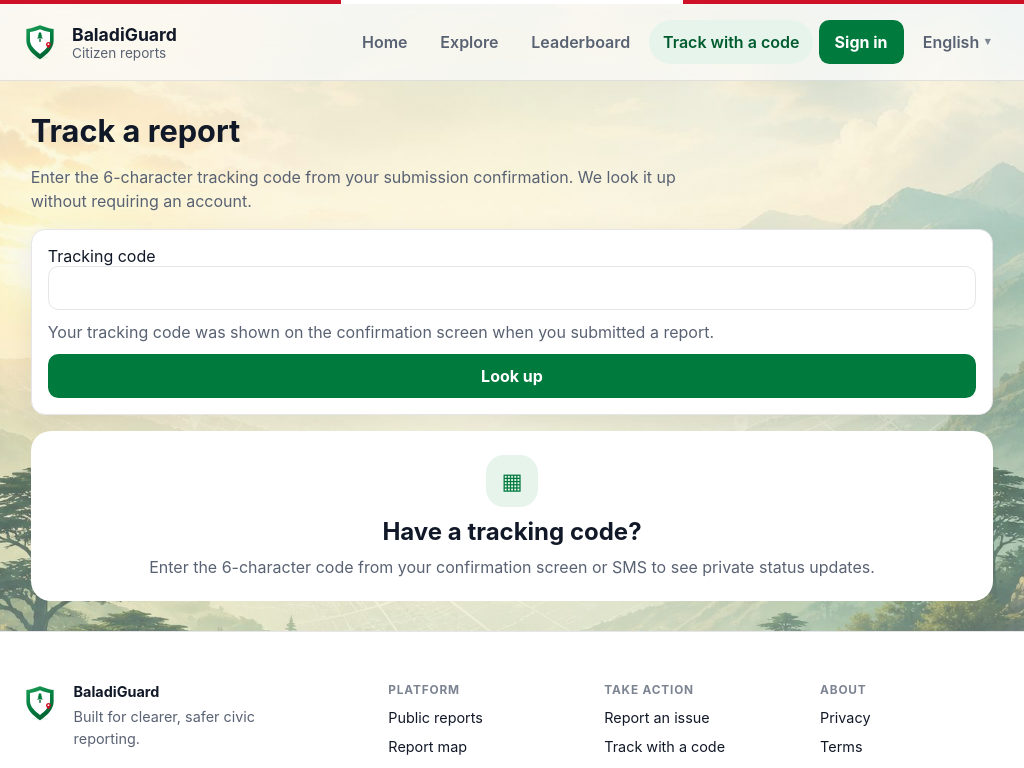
Test: citizen web public browsing › tracks by code with fixed wording paths
In the field labelled "Tracking code": (512, 288) [48,266,976,310], type "ABC234"
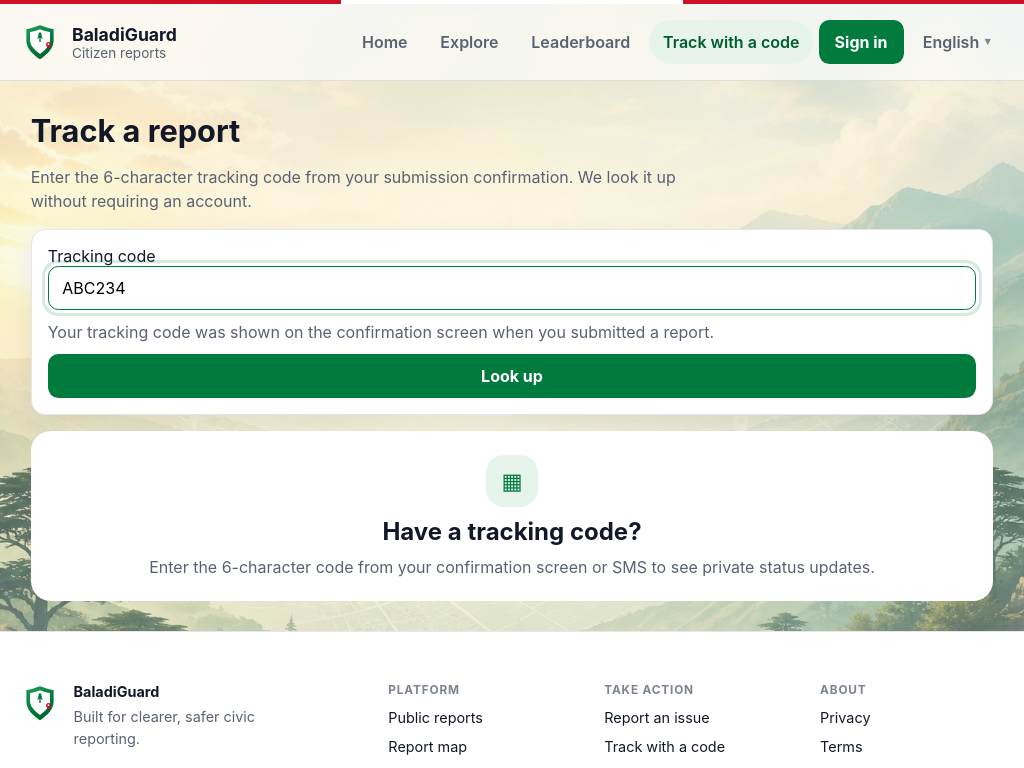
Click the button "Look up": (512, 376) [48,354,976,398]
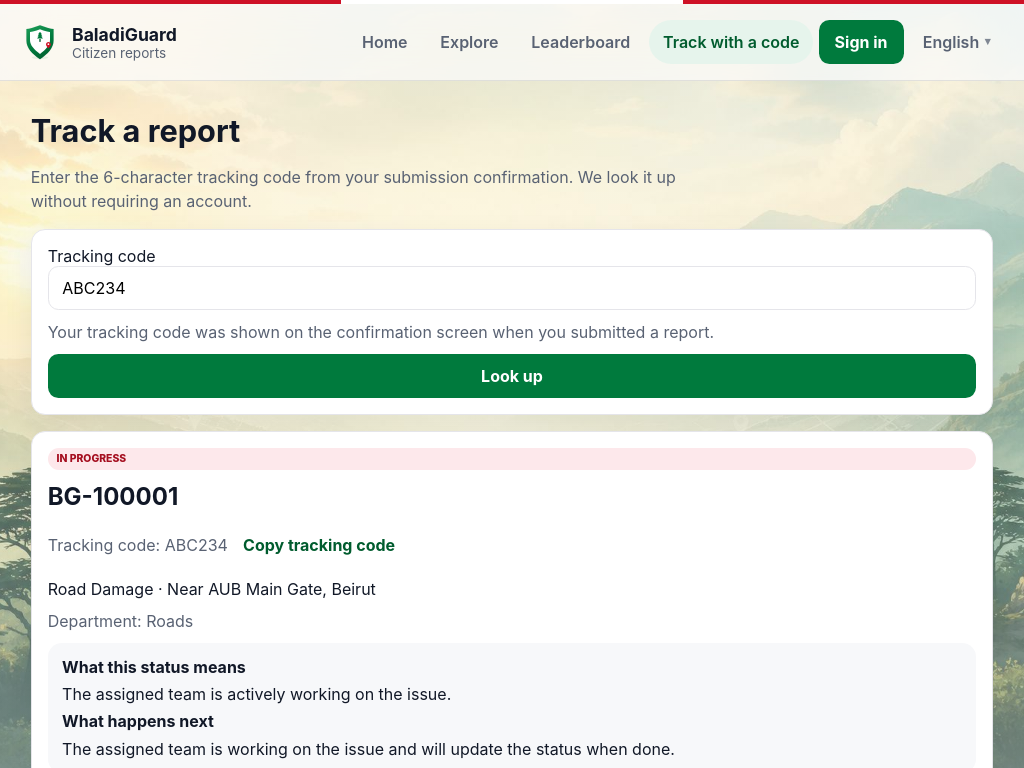
Now the text "Tracking code: ABC234" is shown, box [48,535,228,555]
